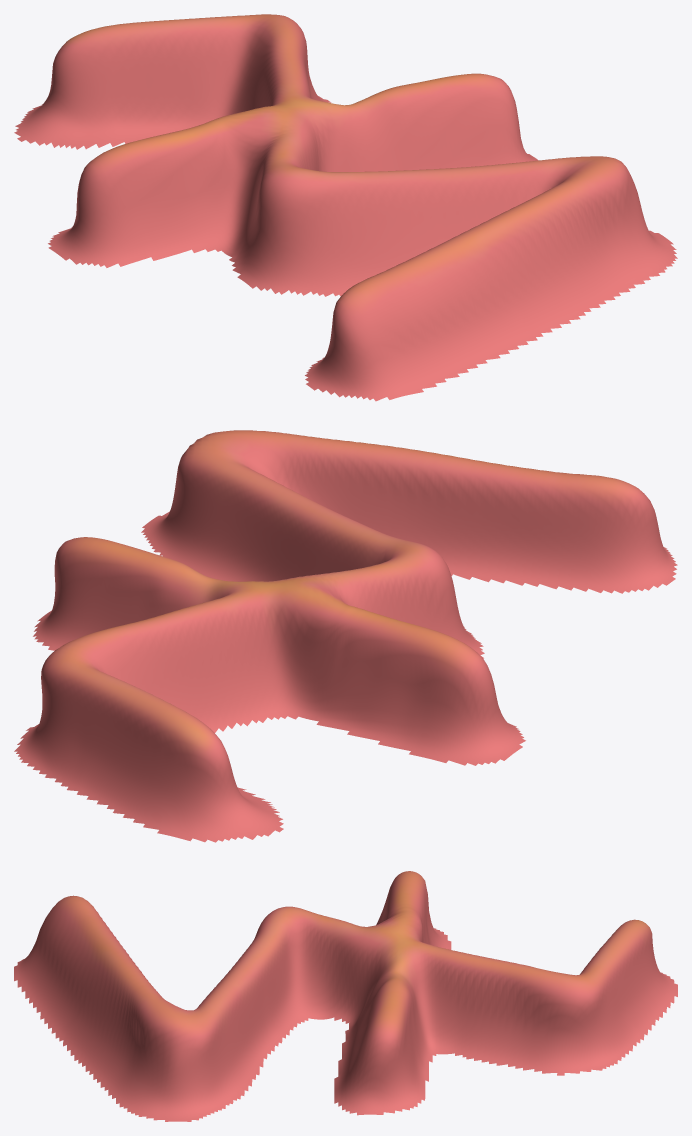
File: cave_gliph_3.fbx
3 views of the same model, one above another, from view 1: azimuth 30°, elevation 25°; view 2: azimuth 150°, elevation 25°; view 3: azimuth 270°, elevation 25° (orthographic). The views are drawn at different scales.
Visible parts, largest first — view 1: gliph_3; view 2: gliph_3; view 3: gliph_3.
Part boxes in pixels (x1=…): gliph_3: x1=14, y1=14, x2=677, y2=401; gliph_3: x1=14, y1=430, x2=677, y2=842; gliph_3: x1=14, y1=871, x2=677, y2=1121.
Size of the model in its own units: 123 by 25.07 by 176.
Materials: 1 (1 with a texture image).
